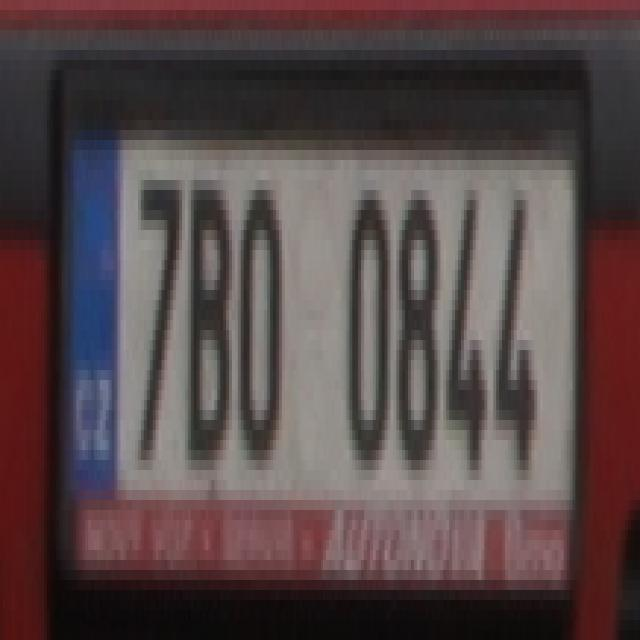0: (346, 200, 391, 470), (235, 180, 279, 450)
4: (490, 180, 538, 450), (446, 180, 491, 450)
7: (138, 170, 185, 470)
8: (396, 180, 441, 450)
B: (188, 180, 232, 460)
